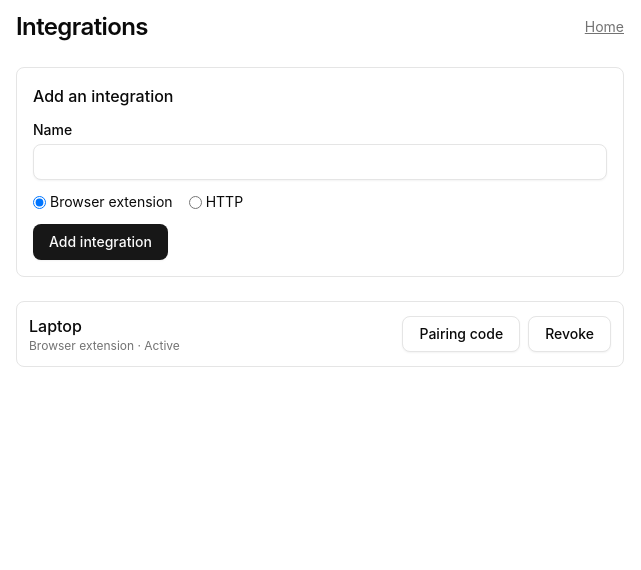
Scenario: integrations page › counts down from the server's clock, not the browser's
Step 1. Click the button with aria-label "pairing code for laptop" → (461, 334), box [402,316,520,352]
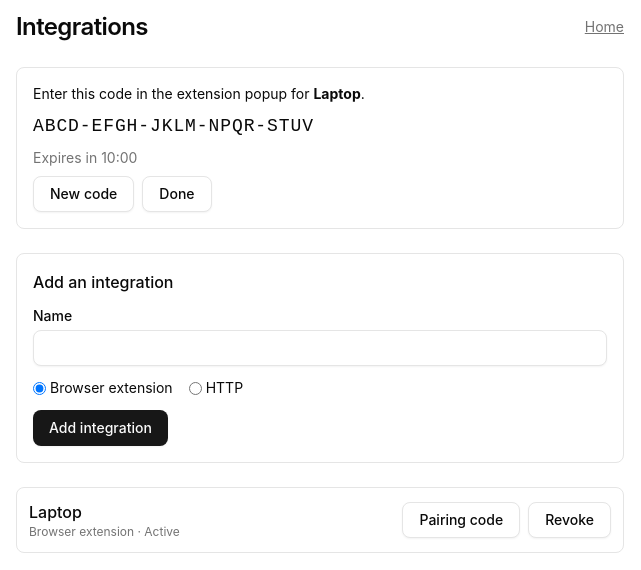
Expected: the text "ABCD-EFGH-JKLM-NPQR-STUV" is shown, [33,116,314,136]
Expected: the text "Expires in 10:00" is shown, [33,149,137,166]
